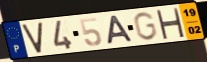4: (53, 19, 74, 51)
5: (78, 16, 103, 48)
A: (105, 14, 135, 45)
G: (132, 11, 159, 42)
H: (154, 8, 186, 40)
V: (21, 20, 44, 54)
